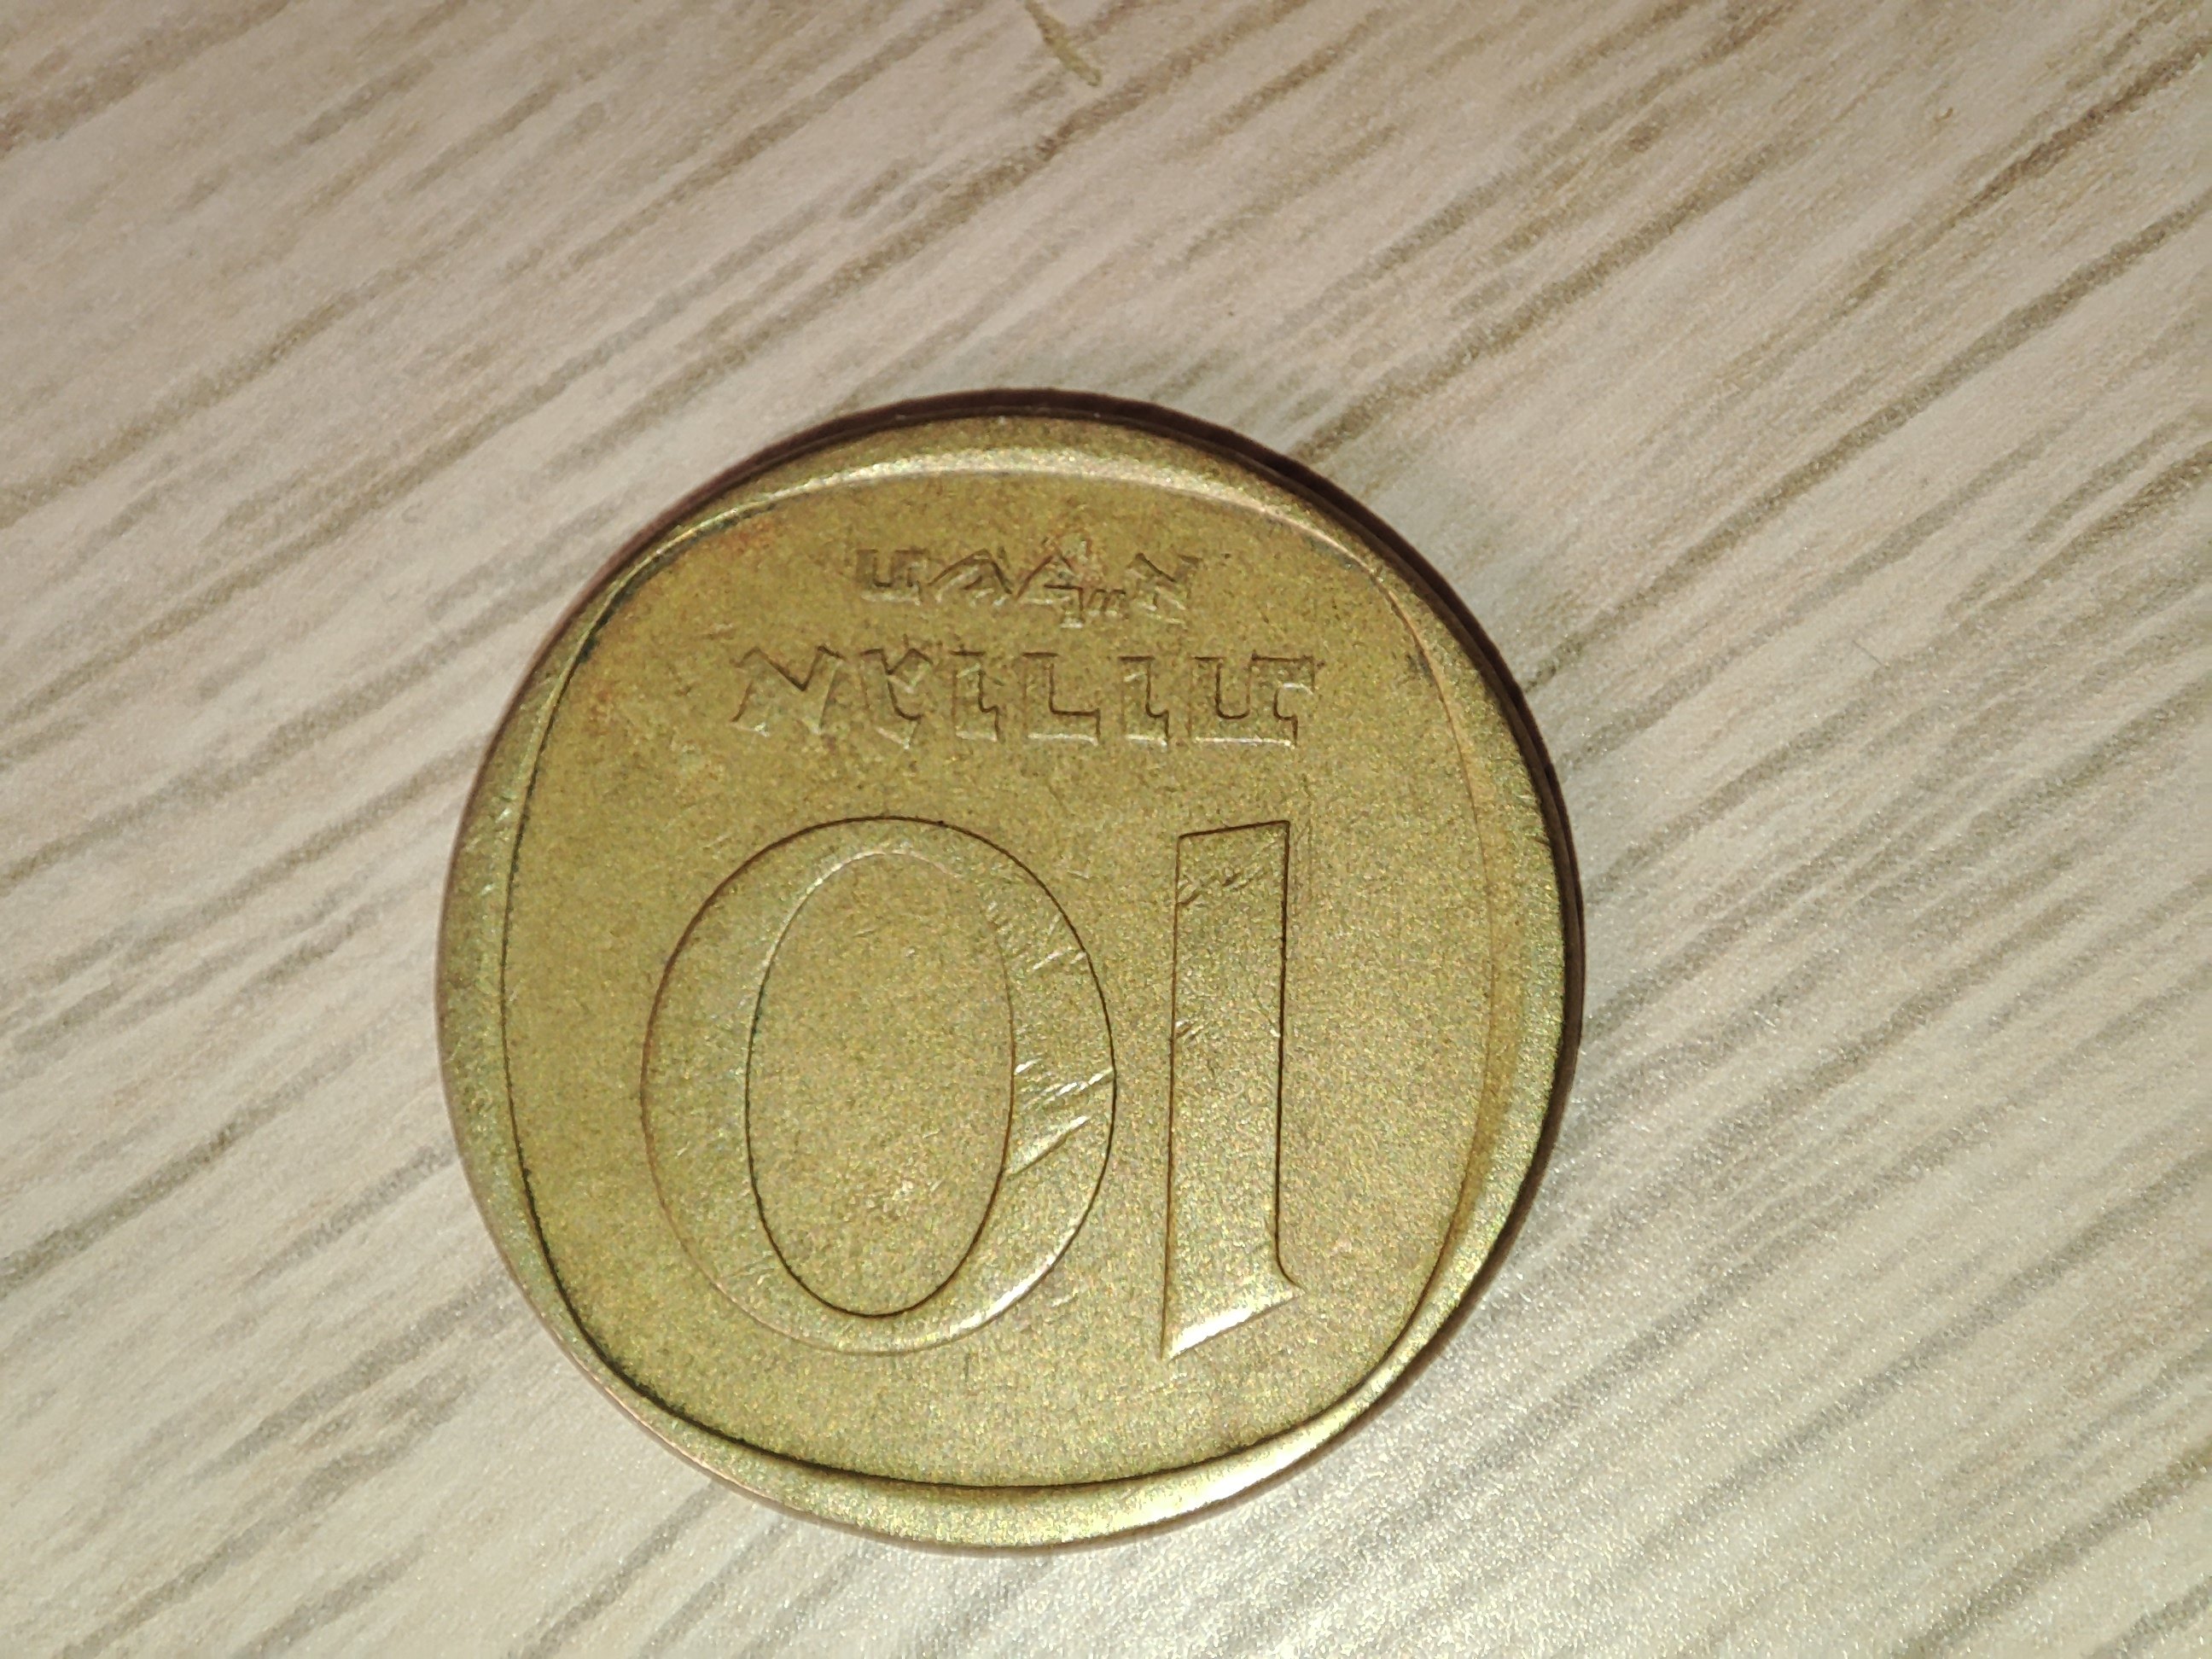10 old agora brown: (434, 385, 1588, 1563)
